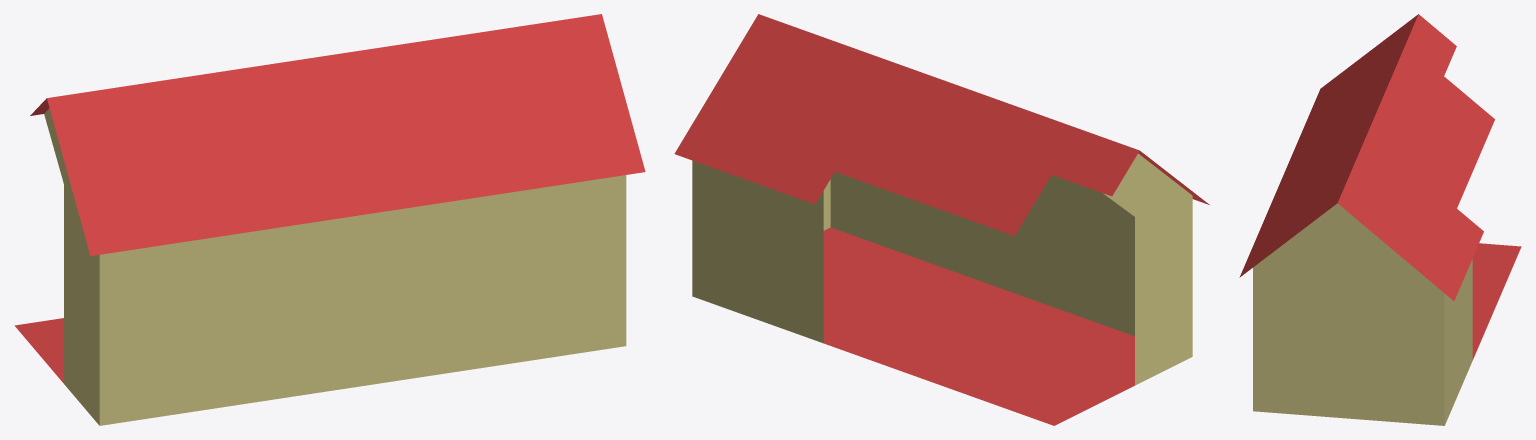
3 renders of one model, left to right at view 1: azimuth 30°, elevation 25°; view 2: azimuth 150°, elevation 25°; view 3: azimuth 270°, elevation 25°, orthographic. The views are drawn at different scales.
Bounding box in the file's own units: 31.14 × 18.06 × 15.5.
